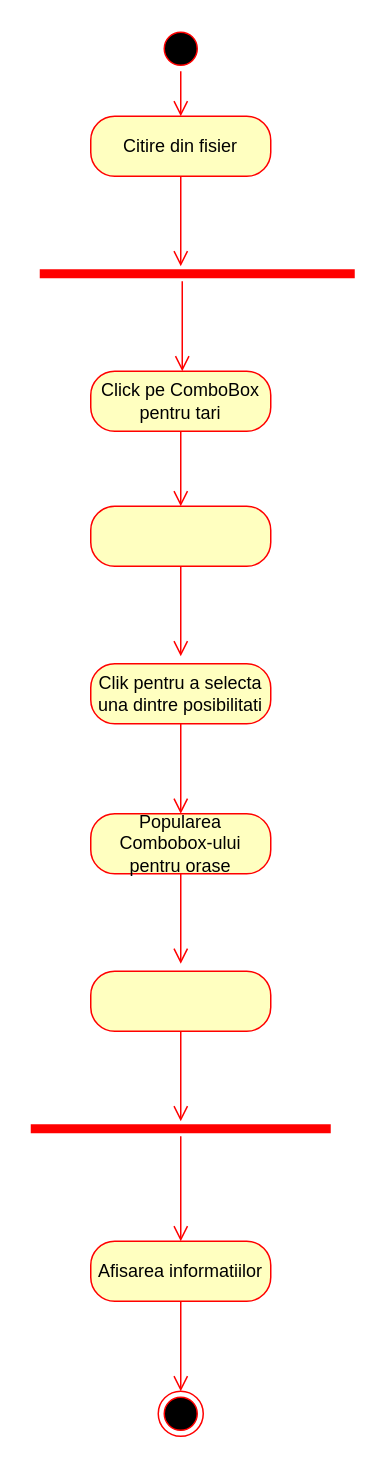
Image size: 384x1463. Some labels were removed from this diagram. Here are the shapes that lost their labels. From the top down, the centre of each, then its label:
At point (180, 535): "Popularea Combobox-ului pentru tari".
At point (180, 1000): "Click pe butonul Search".
